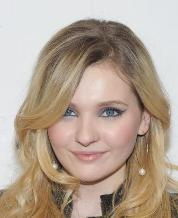face: (59, 99, 126, 164)
